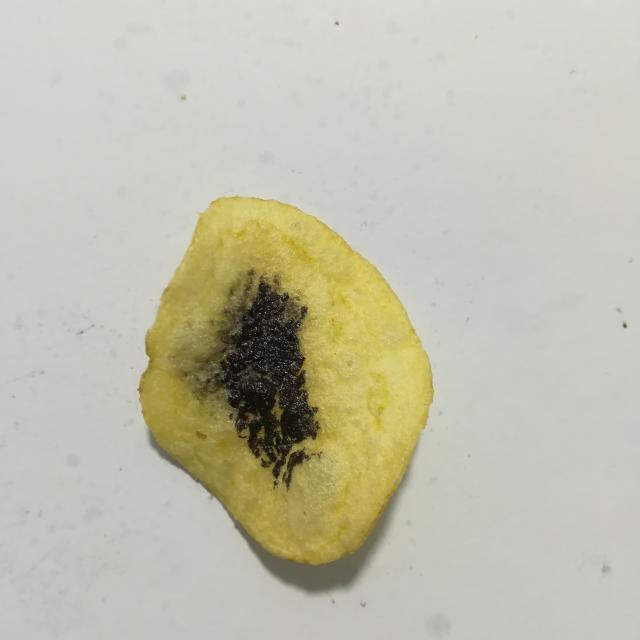chip: (139, 197, 433, 564)
damaged: (205, 276, 319, 478), (282, 448, 311, 491)
semi-damaged: (168, 268, 279, 424)
